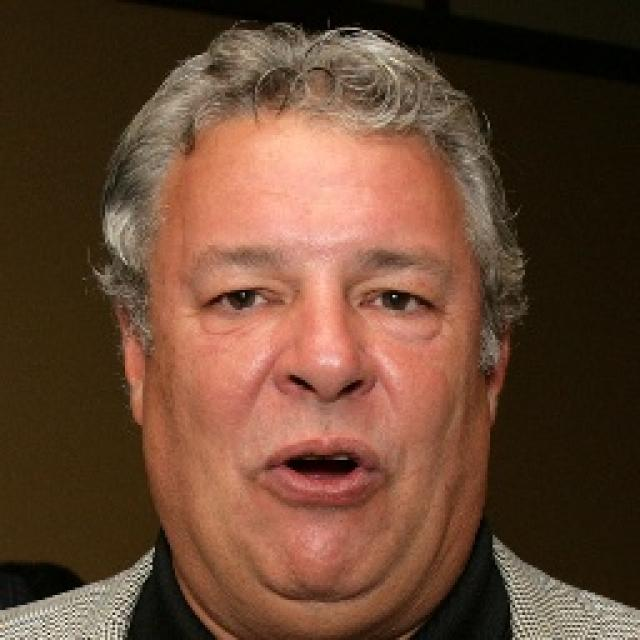earlobe: (110, 295, 152, 430), (482, 300, 514, 428)
